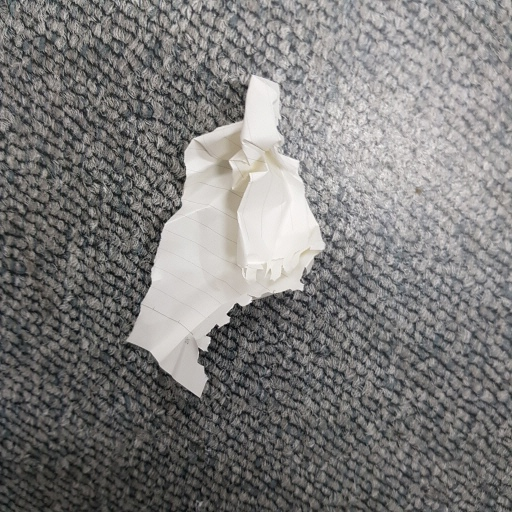Paper_3: (122, 69, 334, 390)
